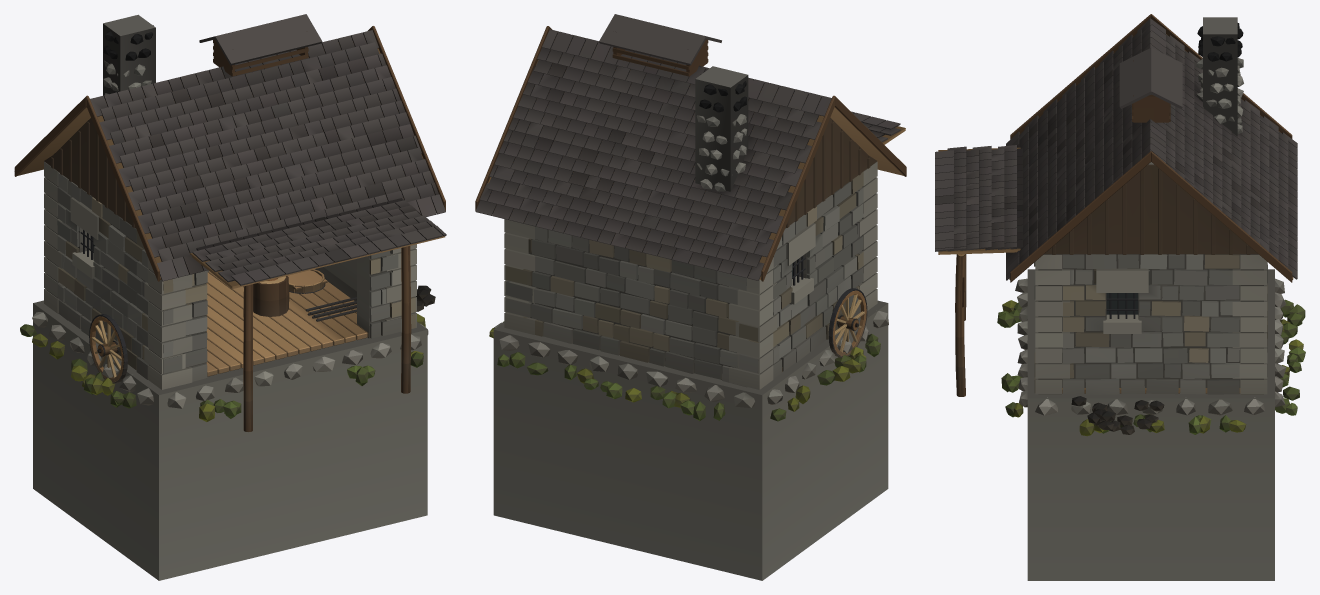
Rendered from demirci.glb.
The picture shows the model from 3 angles, left to right: view 1: azimuth 30°, elevation 25°; view 2: azimuth 150°, elevation 25°; view 3: azimuth 270°, elevation 25°; orthographic projection.
Visible parts, largest first — view 1: stone-plinth-001, shingle-001, shingle-004, plank-001, stone-quoin-018, shingle-louvre-003, stone-wall-013, stone-forge-020, plank-gable-002, stone-found-002, stone-wall-012, stone-wall-006 (+13 smaller); view 2: stone-plinth-001, shingle-002, stone-wall-009, stone-wall-010, stone-quoin-018, stone-forge-020, stone-found-003, shingle-louvre-003, stone-wall-013, plank-gable-002, stone-wall-012, stone-wall-014 (+8 smaller); view 3: stone-plinth-001, shingle-002, shingle-001, plank-gable-003, shingle-004, stone-quoin-018, stone-wall-015, stone-wall-016, stone-wall-017, stone-forge-020, shingle-louvre-003, plank-barge-005 (+8 smaller).
Boxes of the visible parts, <box> form: stone-plinth-001: <box>33,300,427,580</box>; shingle-001: <box>90,30,445,281</box>; shingle-004: <box>189,198,446,289</box>; plank-001: <box>206,271,368,376</box>; stone-quoin-018: <box>44,161,416,389</box>; shingle-louvre-003: <box>199,14,322,76</box>; stone-wall-013: <box>57,220,148,331</box>; stone-forge-020: <box>103,14,155,95</box>; plank-gable-002: <box>44,118,135,228</box>; stone-found-002: <box>167,334,423,421</box>; stone-wall-012: <box>57,267,148,379</box>; stone-wall-006: <box>149,282,415,381</box>; stone-plinth-001: <box>493,300,888,580</box>; shingle-002: <box>475,30,831,280</box>; stone-wall-009: <box>505,281,772,387</box>; stone-wall-010: <box>505,238,772,341</box>; stone-quoin-018: <box>504,161,877,389</box>; stone-forge-020: <box>695,66,748,191</box>; stone-found-003: <box>497,335,755,420</box>; shingle-louvre-003: <box>599,14,721,76</box>; stone-wall-013: <box>772,222,863,327</box>; plank-gable-002: <box>785,118,876,228</box>; stone-wall-012: <box>772,267,863,378</box>; stone-wall-014: <box>772,171,863,283</box>; stone-plinth-001: <box>1027,269,1274,580</box>; shingle-002: <box>1151,19,1297,279</box>; shingle-001: <box>1006,18,1151,280</box>; plank-gable-003: <box>1044,164,1258,254</box>; shingle-004: <box>935,145,1023,254</box>; stone-quoin-018: <box>1035,254,1267,394</box>; stone-wall-015: <box>1062,347,1240,394</box>; stone-wall-016: <box>1062,300,1240,348</box>; stone-wall-017: <box>1062,254,1240,300</box>; stone-forge-020: <box>1196,17,1243,136</box>; shingle-louvre-003: <box>1119,47,1182,122</box>; plank-barge-005: <box>1010,151,1292,282</box>.
Size of the model in its own units: 6.73 by 8.85 by 6.45.
